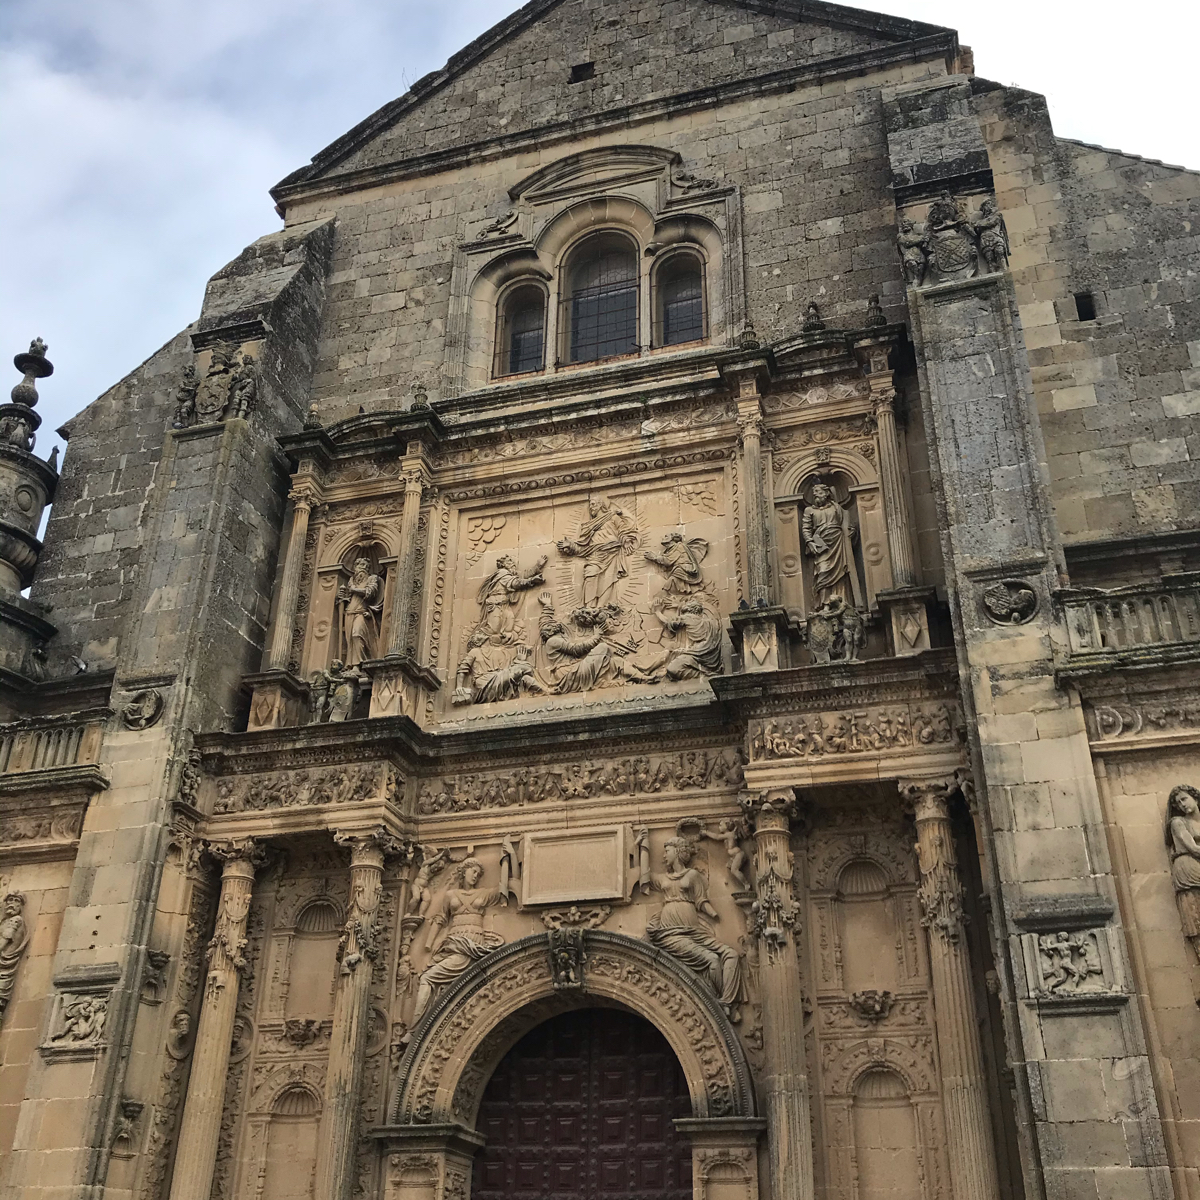arco-medio-punto: (442, 980, 703, 1154), (557, 219, 646, 280), (647, 241, 710, 284), (491, 273, 551, 316)
fronton-curvo: (508, 143, 679, 205)
